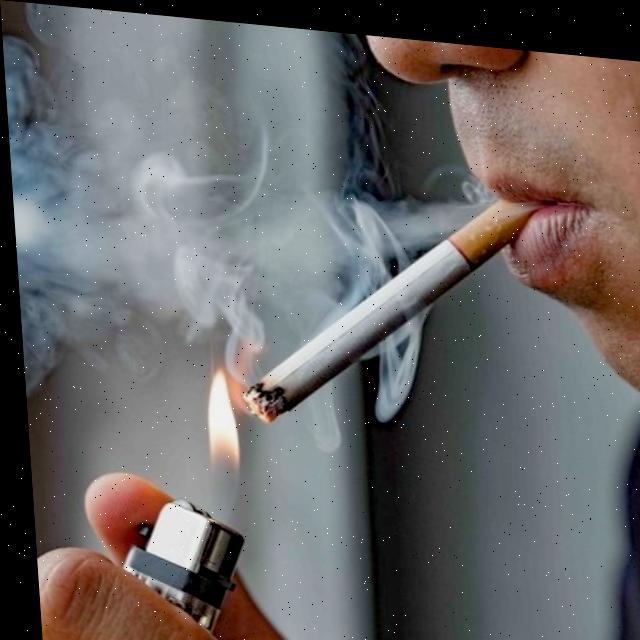cigarette: (224, 169, 553, 444)
